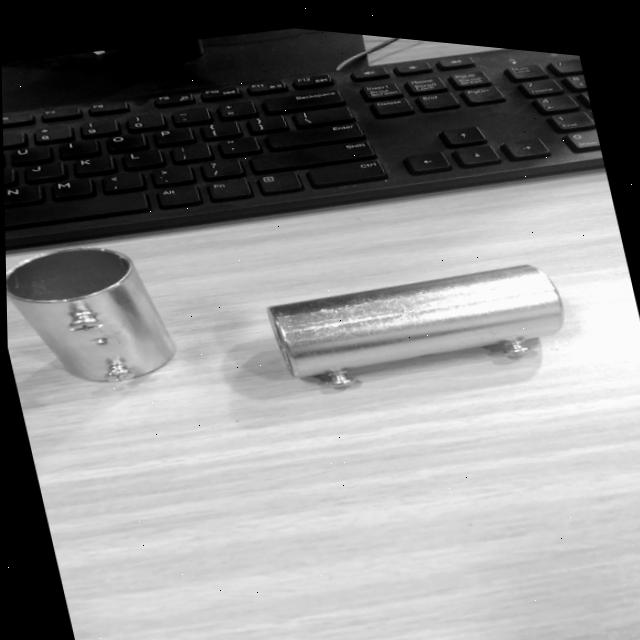Co_Lon: (266, 253, 568, 396)
Co_Nho: (0, 216, 179, 413)
